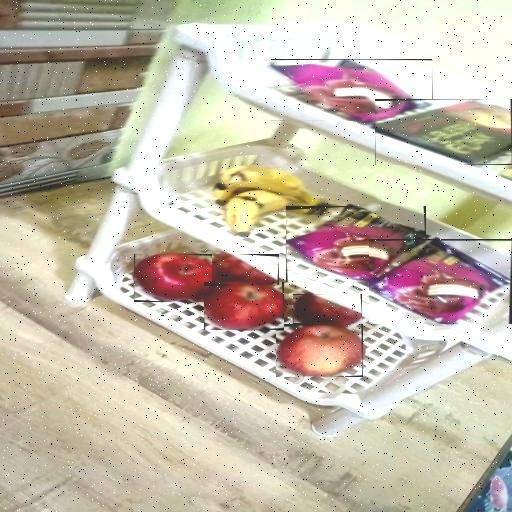Apple: (276, 324, 363, 377), (134, 254, 218, 302), (204, 282, 284, 330), (293, 294, 362, 328), (212, 254, 279, 285)
Choco Fills: (375, 99, 512, 165)
Choco Pie: (369, 239, 512, 324), (286, 206, 426, 282), (271, 59, 433, 121)
